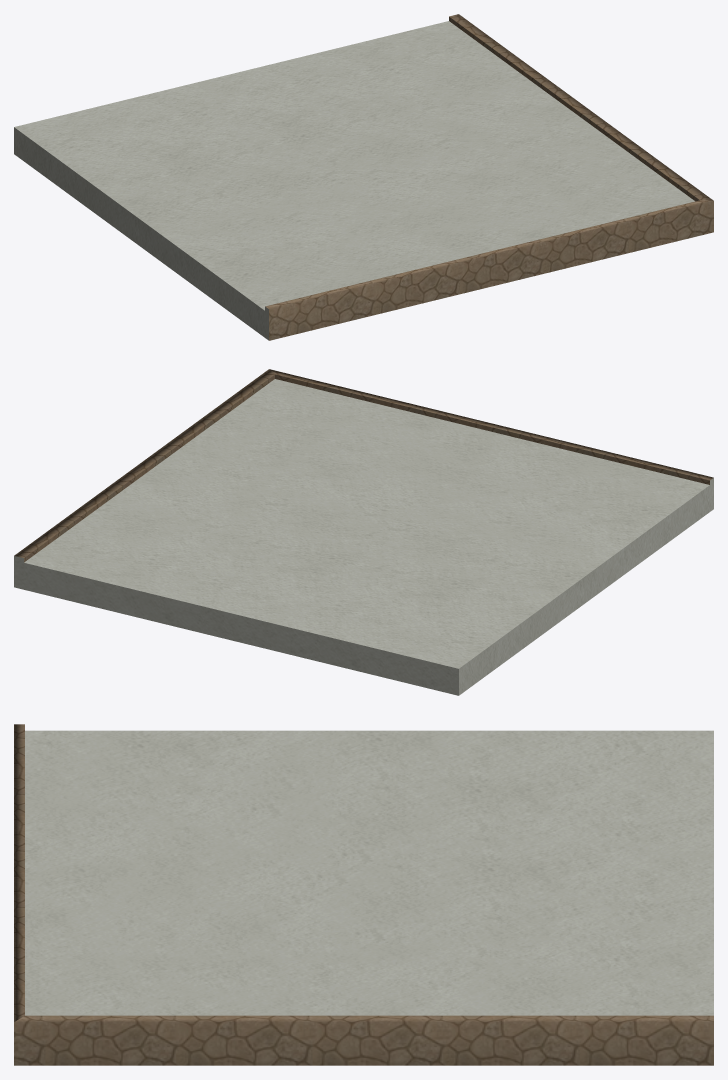
Rendered from OutSideStairs_Rest_001.fbx.
3 renders of one model, top to bottom at view 1: azimuth 30°, elevation 25°; view 2: azimuth 150°, elevation 25°; view 3: azimuth 270°, elevation 25°, orthographic. The views are drawn at different scales.
Parts seen in each view (by area): view 1: OutSideStairs_Rest_001; view 2: OutSideStairs_Rest_001; view 3: OutSideStairs_Rest_001.
Boxes of the visible parts, box(x1,y1,x2,y2) form: OutSideStairs_Rest_001: box(14, 14, 713, 340); OutSideStairs_Rest_001: box(14, 369, 713, 695); OutSideStairs_Rest_001: box(14, 724, 713, 1065).
Size of the model in its own units: 14.24 by 0.965 by 14.15.
